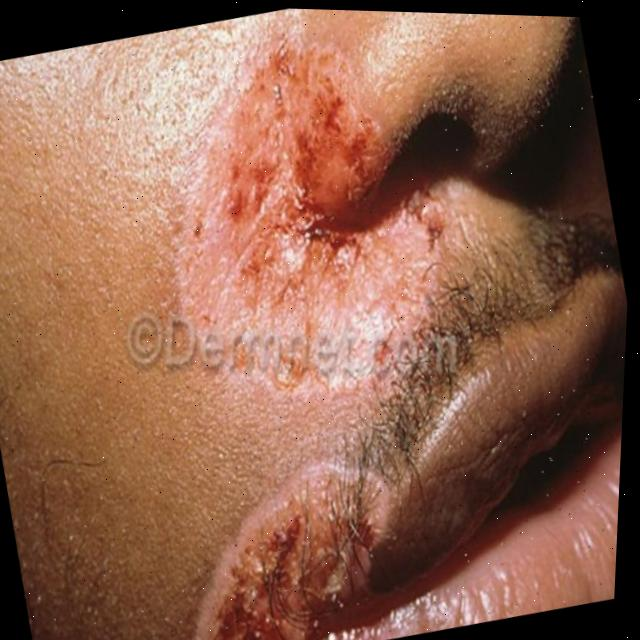Shingles: (174, 30, 406, 327), (156, 451, 412, 640)
